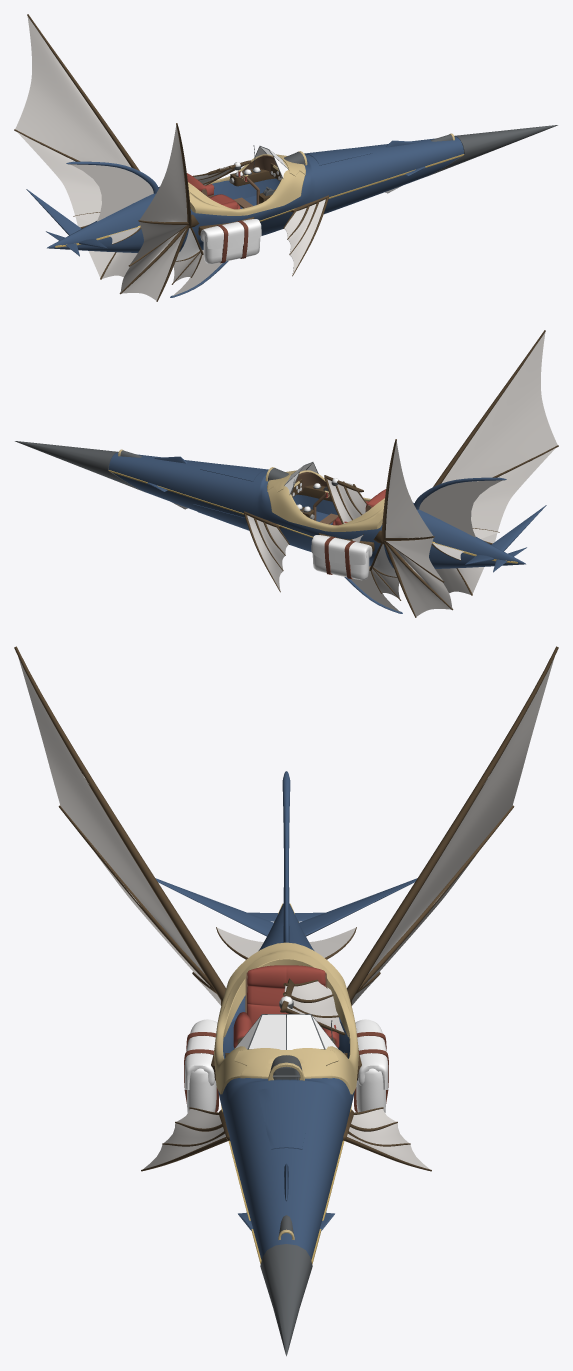
The model's file is swordfish.glb.
The picture shows the model from 3 angles, top to bottom: view 1: azimuth 30°, elevation 25°; view 2: azimuth 150°, elevation 25°; view 3: azimuth 270°, elevation 25°; orthographic projection. The views are drawn at different scales.
Parts seen in each view (by area): view 1: Hull.001, SurfPatch (×2), SurfPatch.001 (×2), Cube.002, SurfacePlane.001, SurfPatch.003 (×2), Cube.001, BezierCurve.007, Cube.034, BezierCurve (×2), SurfPatch.002 (×2), Cube.033 (+6 smaller); view 2: Hull.001, SurfPatch (×2), SurfPatch.001 (×2), Cube.002, BezierCurve.007 (×2), SurfacePlane.001, SurfPatch.003 (×2), Cube.001, Cube.034, BezierCurve (×2), SurfPatch.002 (×2), Cube.033 (+6 smaller); view 3: Hull.001, SurfPatch (×2), BezierCurve (×2), Cube.002, BezierCurve.007 (×3), Cube.001, Top panel, Cube.034 (×2), Cube, Chair back, Cube.042, Cube.033 (×2) (+4 smaller).
Boxes of the visible parts, x1=… form: Hull.001: x1=47, y1=136, x2=463, y2=252; SurfPatch (×2): x1=15, y1=16, x2=187, y2=221; SurfPatch.001 (×2): x1=17, y1=132, x2=186, y2=264; Cube.002: x1=188, y1=154, x2=304, y2=215; SurfacePlane.001: x1=70, y1=164, x2=153, y2=221; SurfPatch.003 (×2): x1=102, y1=229, x2=186, y2=300; Cube.001: x1=426, y1=125, x2=557, y2=176; BezierCurve.007: x1=284, y1=199, x2=325, y2=274; Cube.034: x1=200, y1=219, x2=261, y2=248; BezierCurve (×2): x1=27, y1=14, x2=191, y2=226; SurfPatch.002 (×2): x1=88, y1=231, x2=179, y2=292; Cube.033: x1=203, y1=235, x2=260, y2=264; Hull.001: x1=109, y1=452, x2=525, y2=568; SurfPatch (×2): x1=385, y1=332, x2=557, y2=537; SurfPatch.001 (×2): x1=386, y1=448, x2=555, y2=580; Cube.002: x1=268, y1=470, x2=384, y2=531; BezierCurve.007 (×2): x1=247, y1=479, x2=366, y2=590; SurfacePlane.001: x1=419, y1=480, x2=502, y2=537; SurfPatch.003 (×2): x1=386, y1=545, x2=470, y2=616; Cube.001: x1=15, y1=441, x2=146, y2=492; Cube.034: x1=311, y1=535, x2=372, y2=564; BezierCurve (×2): x1=381, y1=330, x2=545, y2=542; SurfPatch.002 (×2): x1=393, y1=547, x2=484, y2=608; Cube.033: x1=312, y1=551, x2=369, y2=580; Hull.001: x1=218, y1=903, x2=354, y2=1260; SurfPatch (×2): x1=18, y1=658, x2=554, y2=973; BezierCurve (×2): x1=14, y1=646, x2=558, y2=1001; Cube.002: x1=214, y1=942, x2=358, y2=1094; BezierCurve.007 (×3): x1=143, y1=981, x2=429, y2=1169; Cube.001: x1=260, y1=1244, x2=312, y2=1356; Top panel: x1=257, y1=1087, x2=315, y2=1149; Cube.034 (×2): x1=184, y1=1019, x2=388, y2=1089; Cube: x1=235, y1=1014, x2=337, y2=1049; Chair back: x1=247, y1=965, x2=325, y2=1024; Cube.042: x1=234, y1=1049, x2=338, y2=1078; Cube.033 (×2): x1=187, y1=1068, x2=385, y2=1112.
Bounding box in the file's own units: 7.12 × 3.27 × 3.61.
